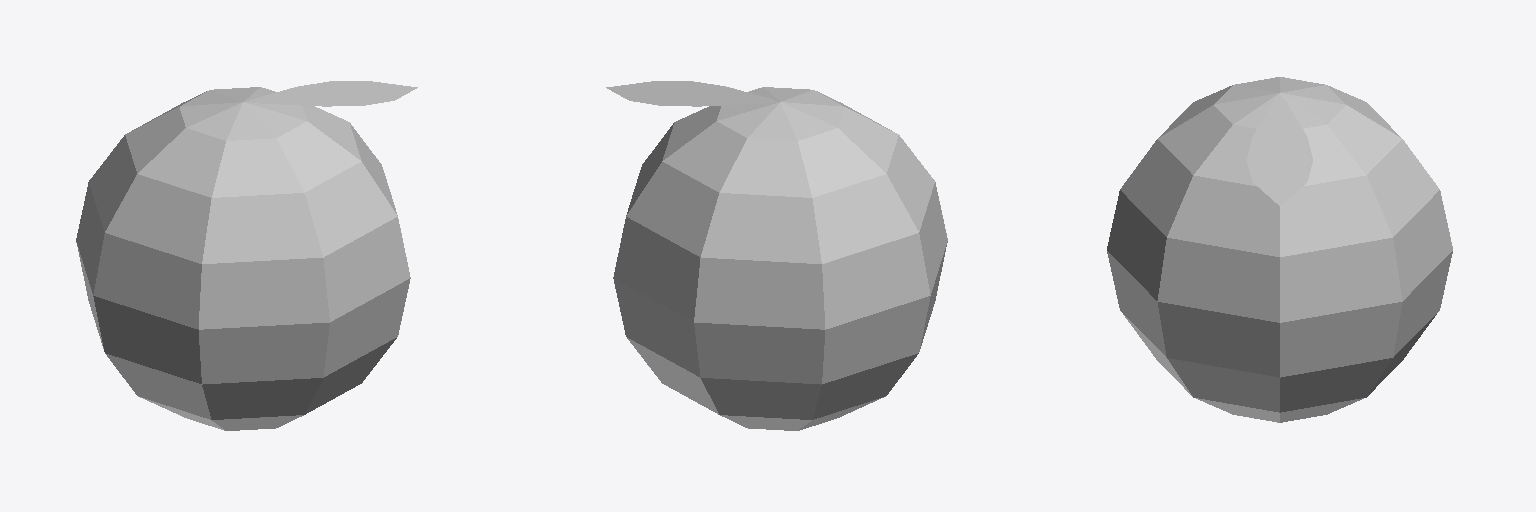
File: LowPolyOrange.obj
The picture shows the model from 3 angles: view 1: azimuth 30°, elevation 25°; view 2: azimuth 150°, elevation 25°; view 3: azimuth 270°, elevation 25°; orthographic projection.
Parts seen in each view (by area): view 1: Sphere; view 2: Sphere; view 3: Sphere.
Part boxes in pixels (bbox=[...]): Sphere: bbox=[76, 81, 417, 430]; Sphere: bbox=[606, 81, 947, 430]; Sphere: bbox=[1107, 77, 1452, 422].
Size of the model in its own units: 2.17 by 2 by 2.